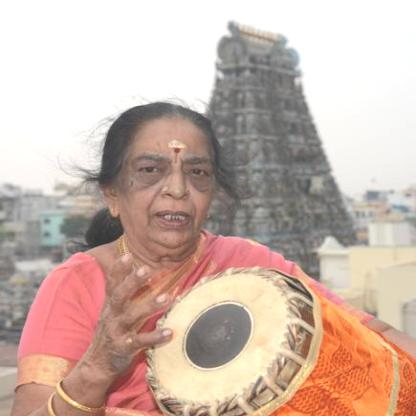Mridangam: (142, 265, 416, 416)
